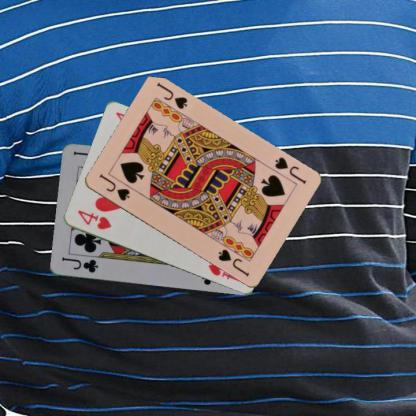4h: (74, 208, 112, 231)
Jc: (59, 255, 99, 274)
Js: (272, 154, 308, 186), (96, 171, 131, 202)
